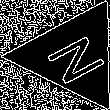N_NE: (36, 26, 109, 86)
